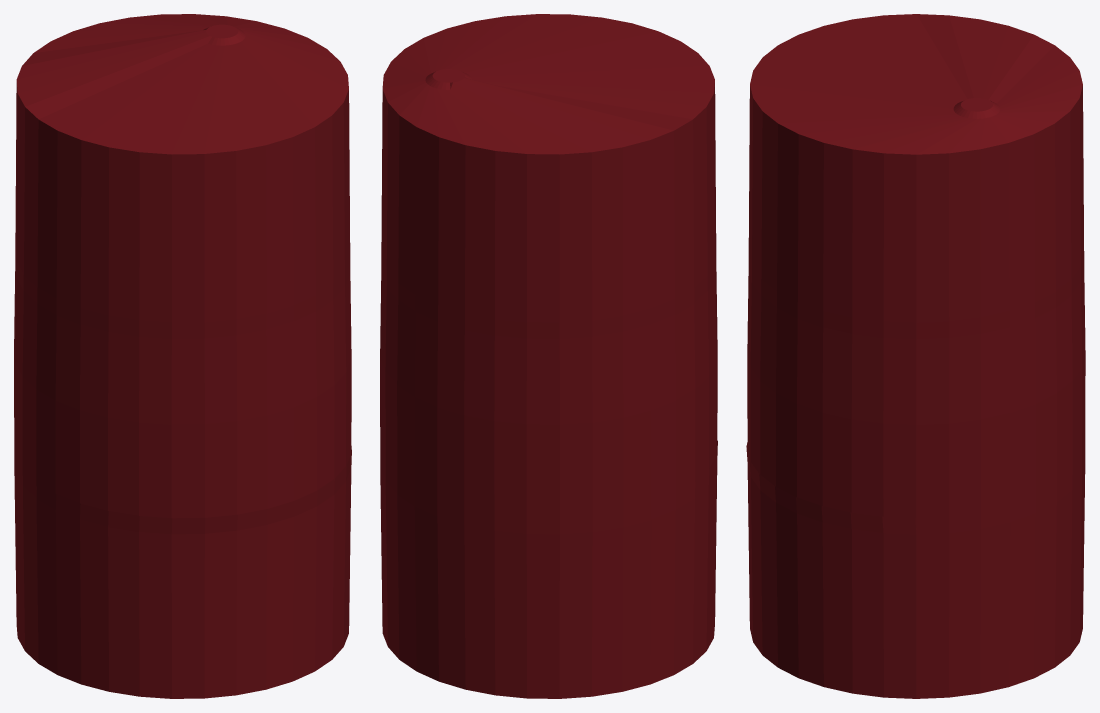
File: barrel.glb
The picture shows the model from 3 angles, left to right: view 1: azimuth 30°, elevation 25°; view 2: azimuth 150°, elevation 25°; view 3: azimuth 270°, elevation 25°; orthographic projection.
Visible parts, largest first — view 1: Цилиндр; view 2: Цилиндр; view 3: Цилиндр.
Boxes of the visible parts, bbox=[...] form: Цилиндр: bbox=[14, 14, 351, 698]; Цилиндр: bbox=[380, 14, 717, 698]; Цилиндр: bbox=[746, 14, 1085, 698].
Size of the model in its own units: 2.03 by 3.7 by 2.04.
